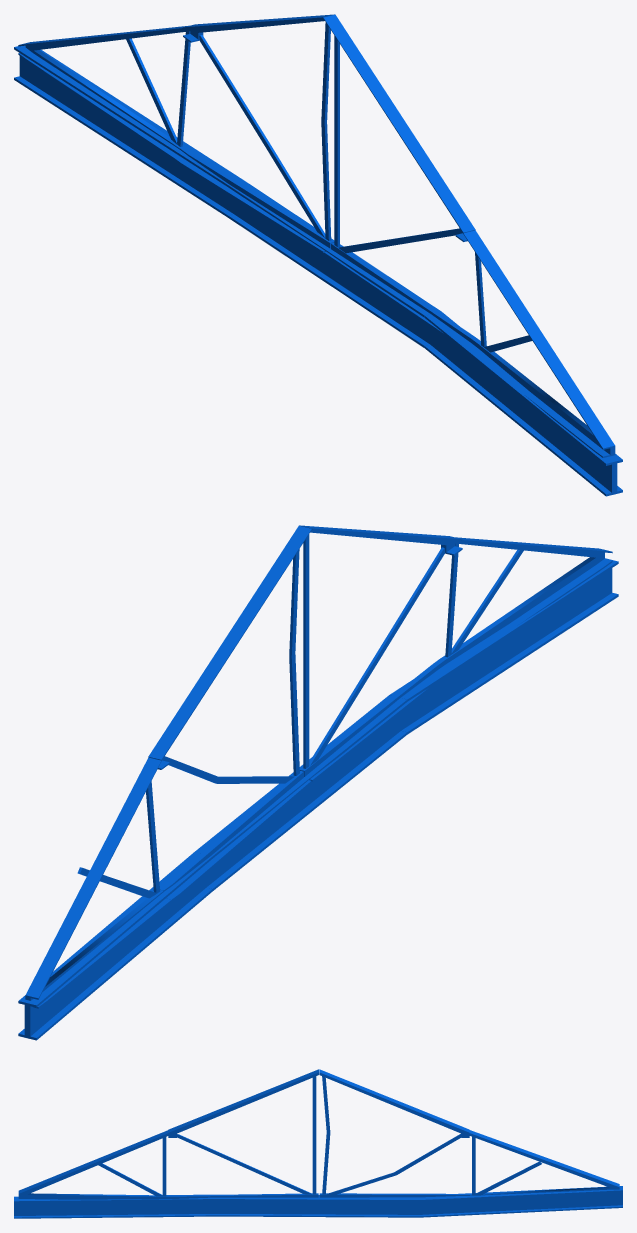
The model's file is Warehouse_03_Metal_01_Brend_01.fbx.
3 views of the same model, one above another, from view 1: azimuth 30°, elevation 25°; view 2: azimuth 150°, elevation 25°; view 3: azimuth 270°, elevation 25° (orthographic). The views are drawn at different scales.
Visible parts, largest first — view 1: Warehouse_03_Metal_01_Brend_01; view 2: Warehouse_03_Metal_01_Brend_01; view 3: Warehouse_03_Metal_01_Brend_01.
Part boxes in pixels (box(x1,y1,x2,y2)): Warehouse_03_Metal_01_Brend_01: box(14, 14, 622, 496); Warehouse_03_Metal_01_Brend_01: box(18, 525, 618, 1040); Warehouse_03_Metal_01_Brend_01: box(14, 1069, 622, 1218).
Size of the model in its own units: 82.44 by 428 by 1624.
